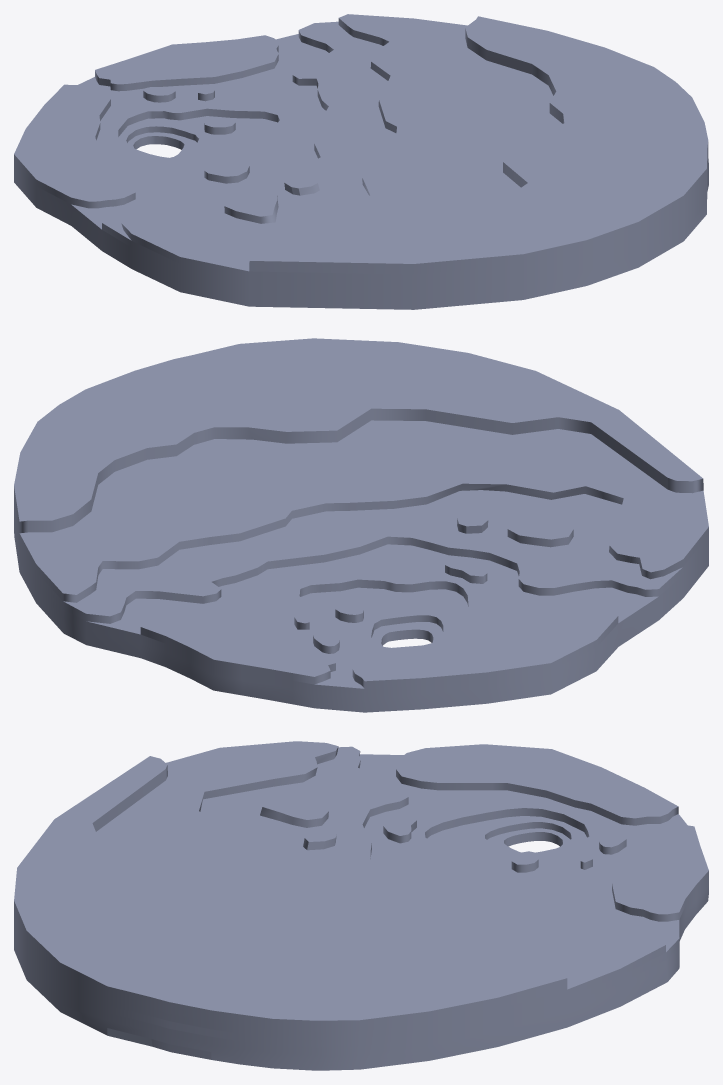
File: enviroment base test1.fbx
3 views of the same model, one above another, from view 1: azimuth 30°, elevation 25°; view 2: azimuth 150°, elevation 25°; view 3: azimuth 270°, elevation 25° (orthographic). The views are drawn at different scales.
Visible parts, largest first — view 1: pCylinder1; view 2: pCylinder1; view 3: pCylinder1.
Part boxes in pixels (box(x1,y1,x2,y2)): pCylinder1: box(14, 14, 708, 309); pCylinder1: box(14, 338, 708, 712); pCylinder1: box(14, 741, 708, 1070).
Bounding box in the file's own units: 167 × 13 × 166.
